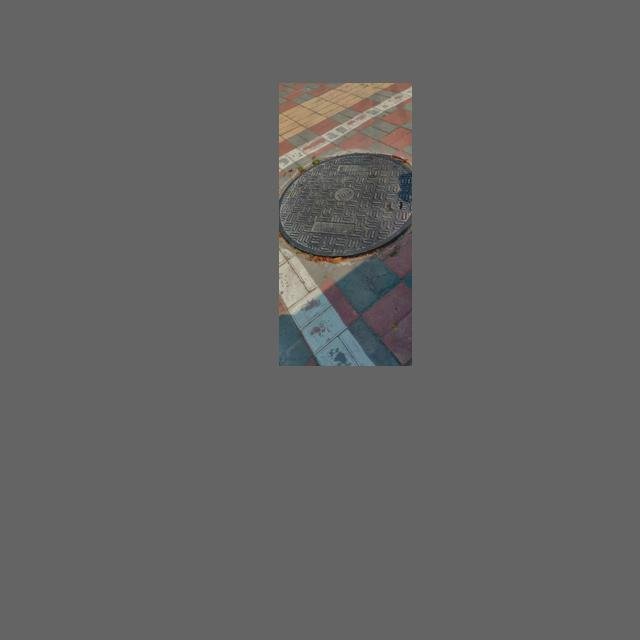good: (280, 152, 412, 257)
